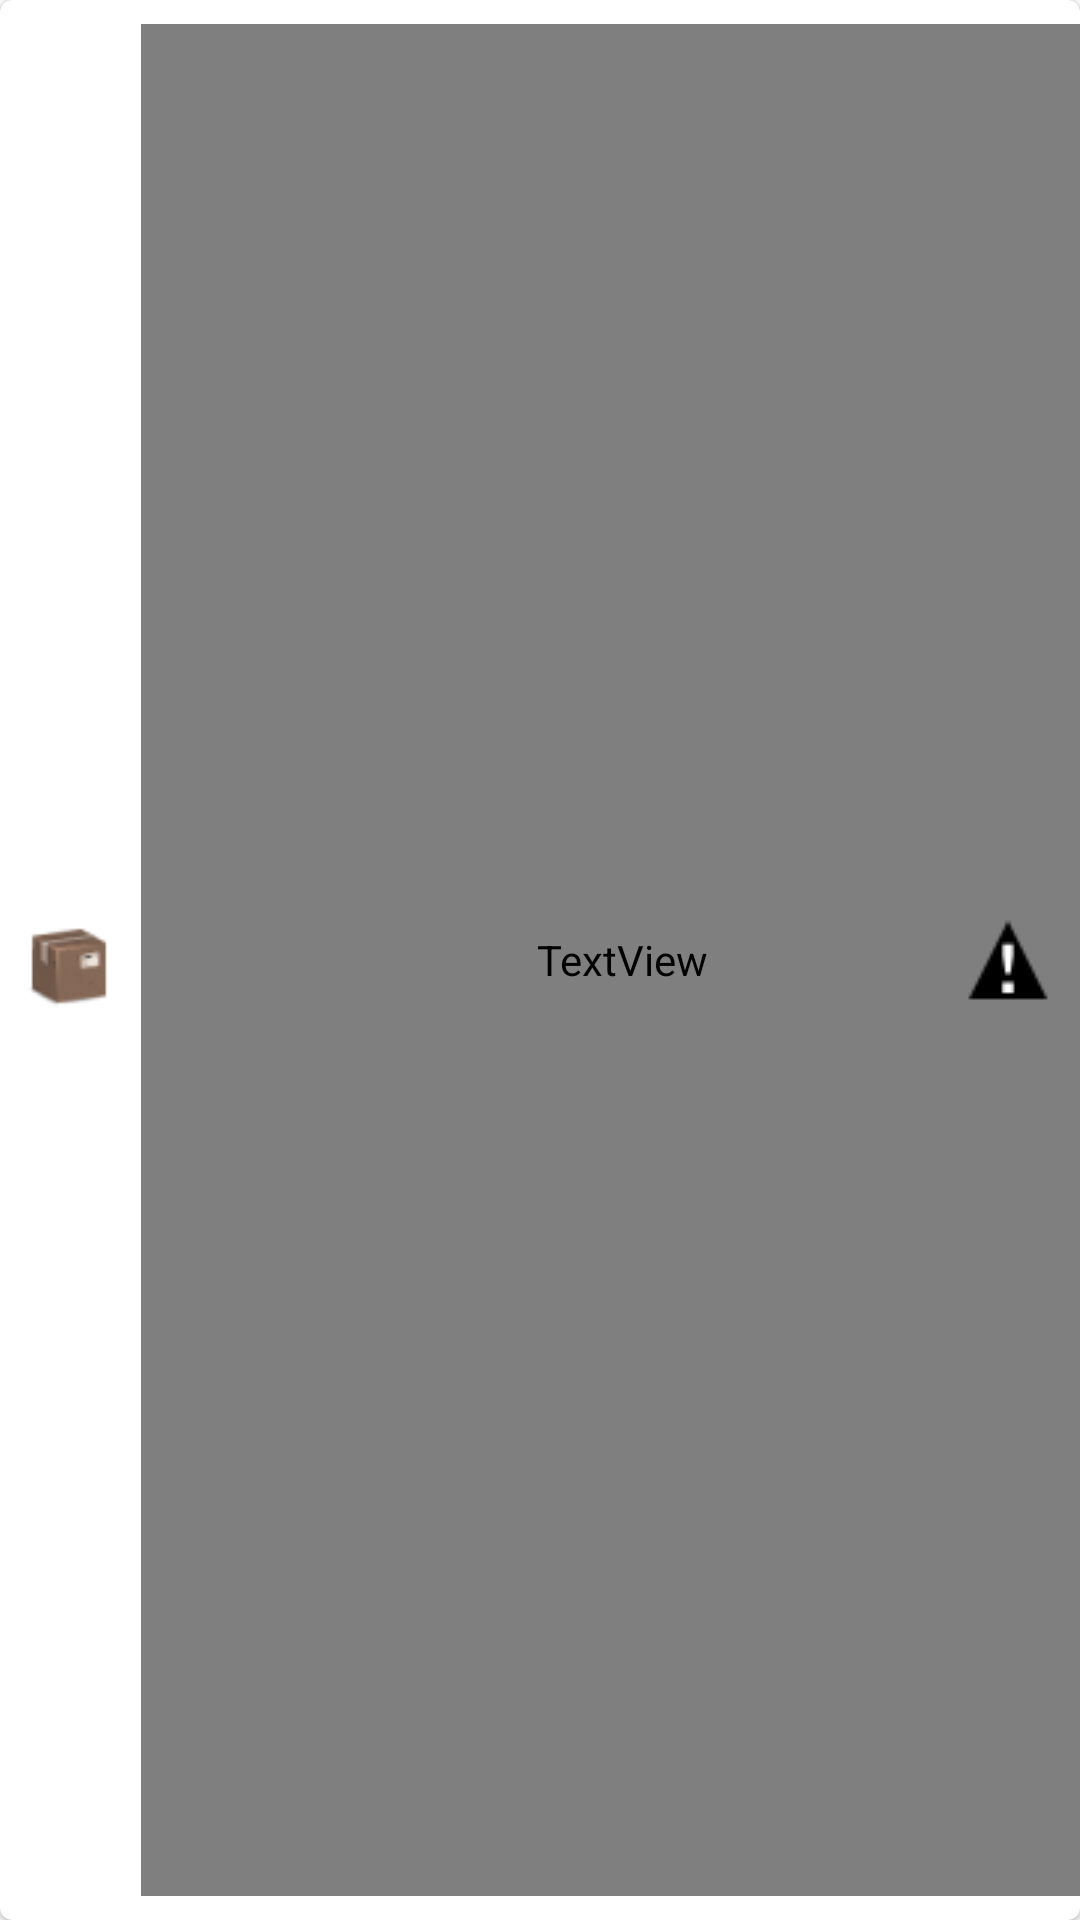

Icon bounding boxes for this 1080 x 1920 phone screenshot, format region(x1, y1, x2, y2):
alert: region(968, 922, 1048, 1000)
box address: region(31, 928, 107, 1004)
